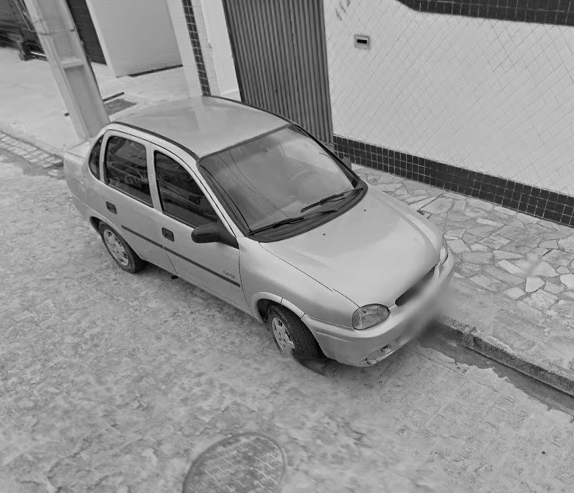car: (61, 91, 457, 375)
